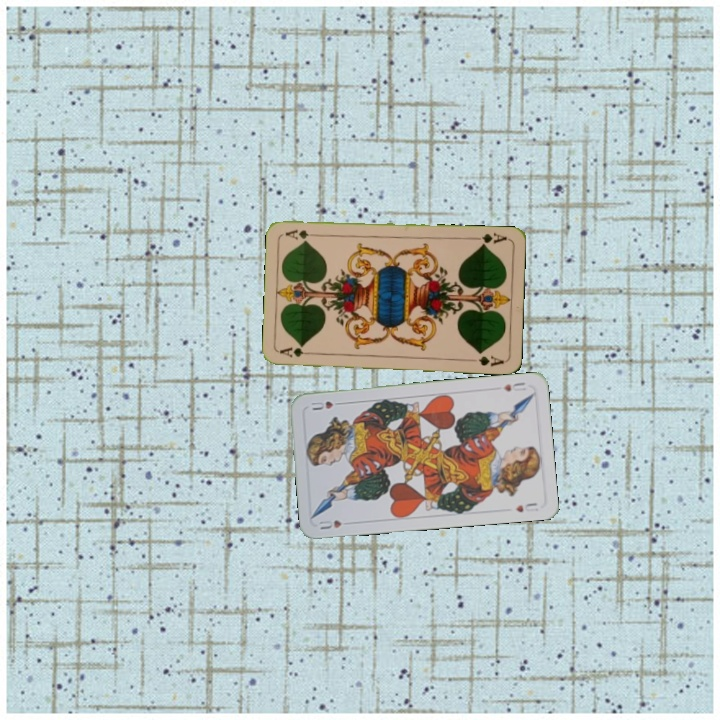GA: (469, 229, 509, 248), (277, 343, 317, 360)
HU: (314, 516, 344, 532), (499, 378, 528, 394)
